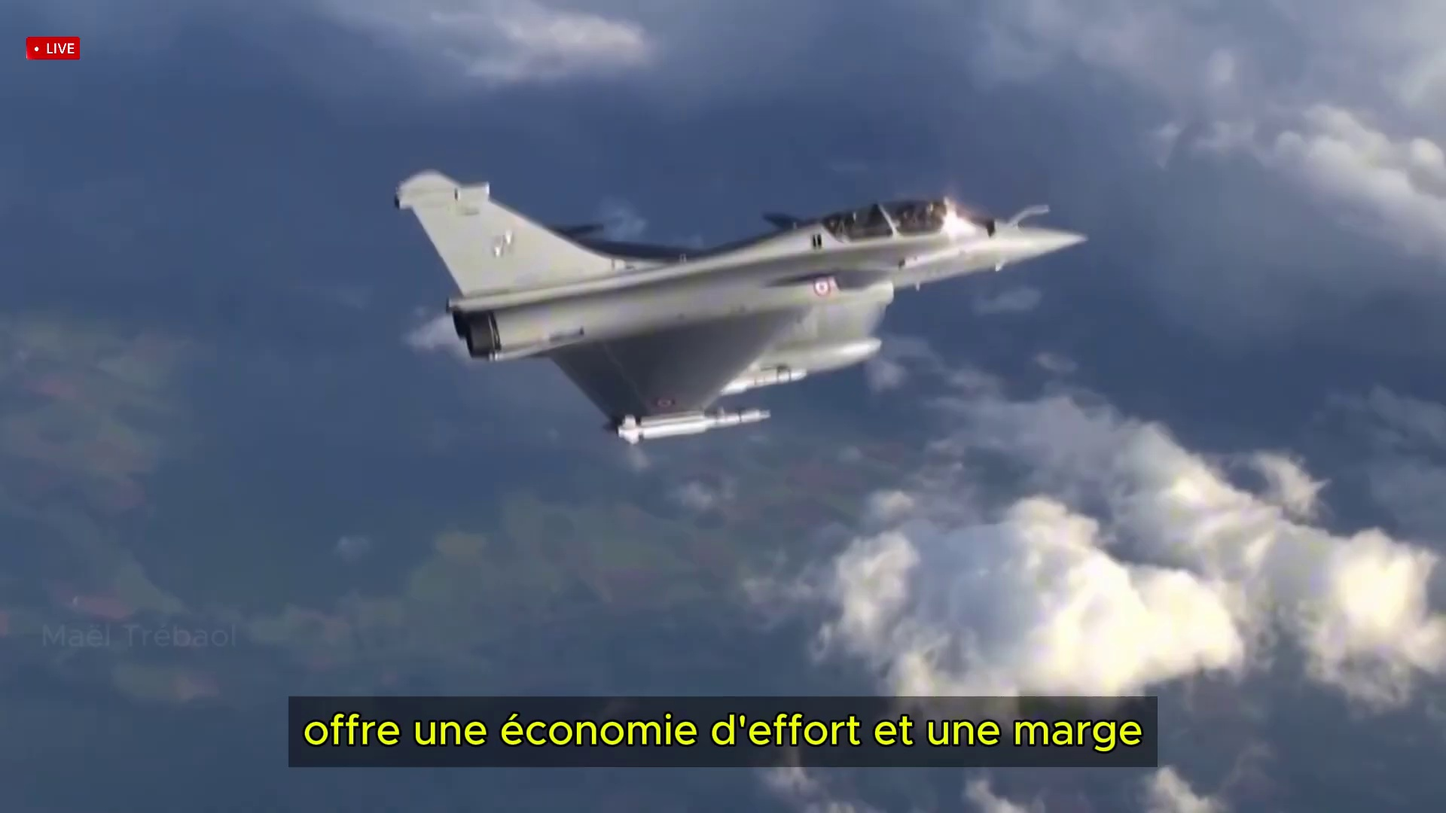Rafale: (397, 173, 1066, 446)
